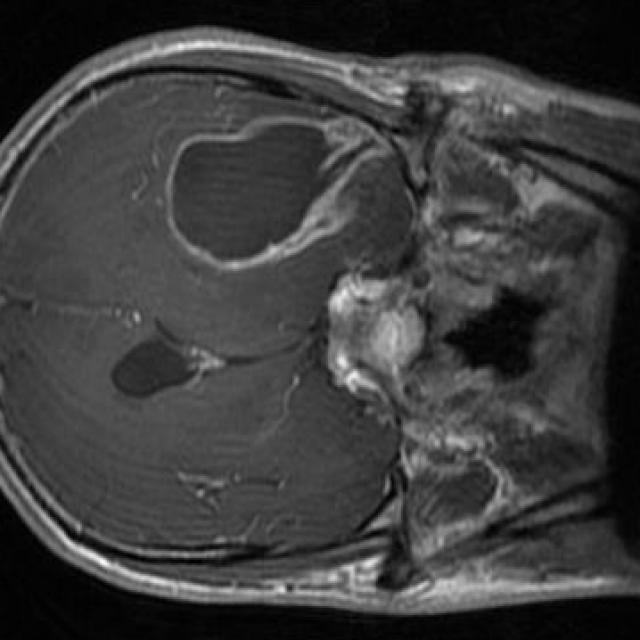glioma: (168, 116, 392, 273)
